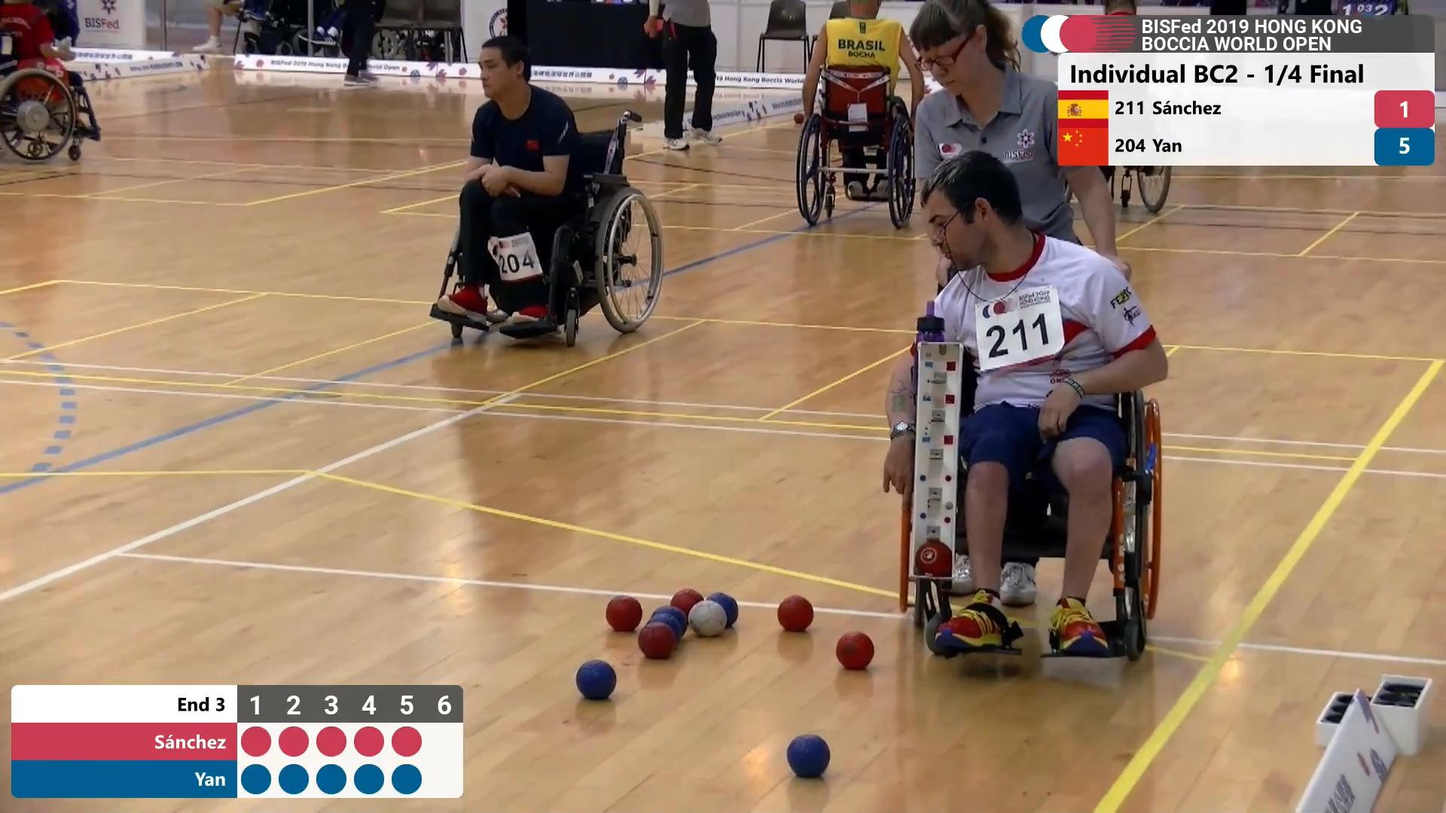blue_ball: (782, 729, 834, 784), (572, 656, 620, 705), (706, 586, 745, 611)
red_ball: (832, 628, 878, 674), (909, 536, 955, 581), (774, 592, 817, 638), (602, 592, 644, 634), (638, 620, 678, 661), (669, 583, 706, 618), (792, 111, 806, 125)
white_ball: (685, 597, 730, 641)
